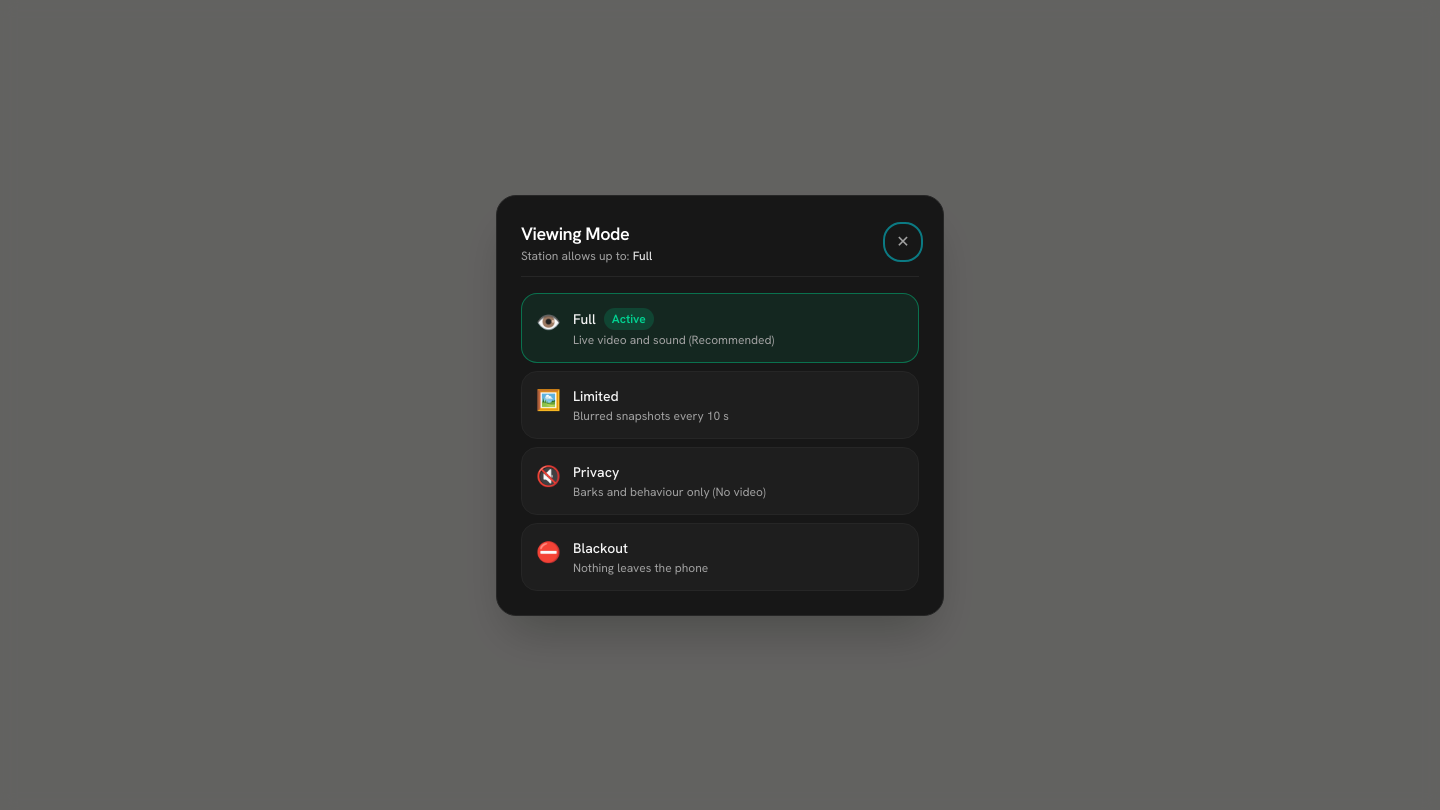
ModeSheet request result › shows the station's answer next to the pending notice
What coordinates should you click on to do the following:
click the button "🔇 Privacy Barks and behaviour only (No video)"
I would click on:
 (720, 480)
Its box is [521,446,919,514].
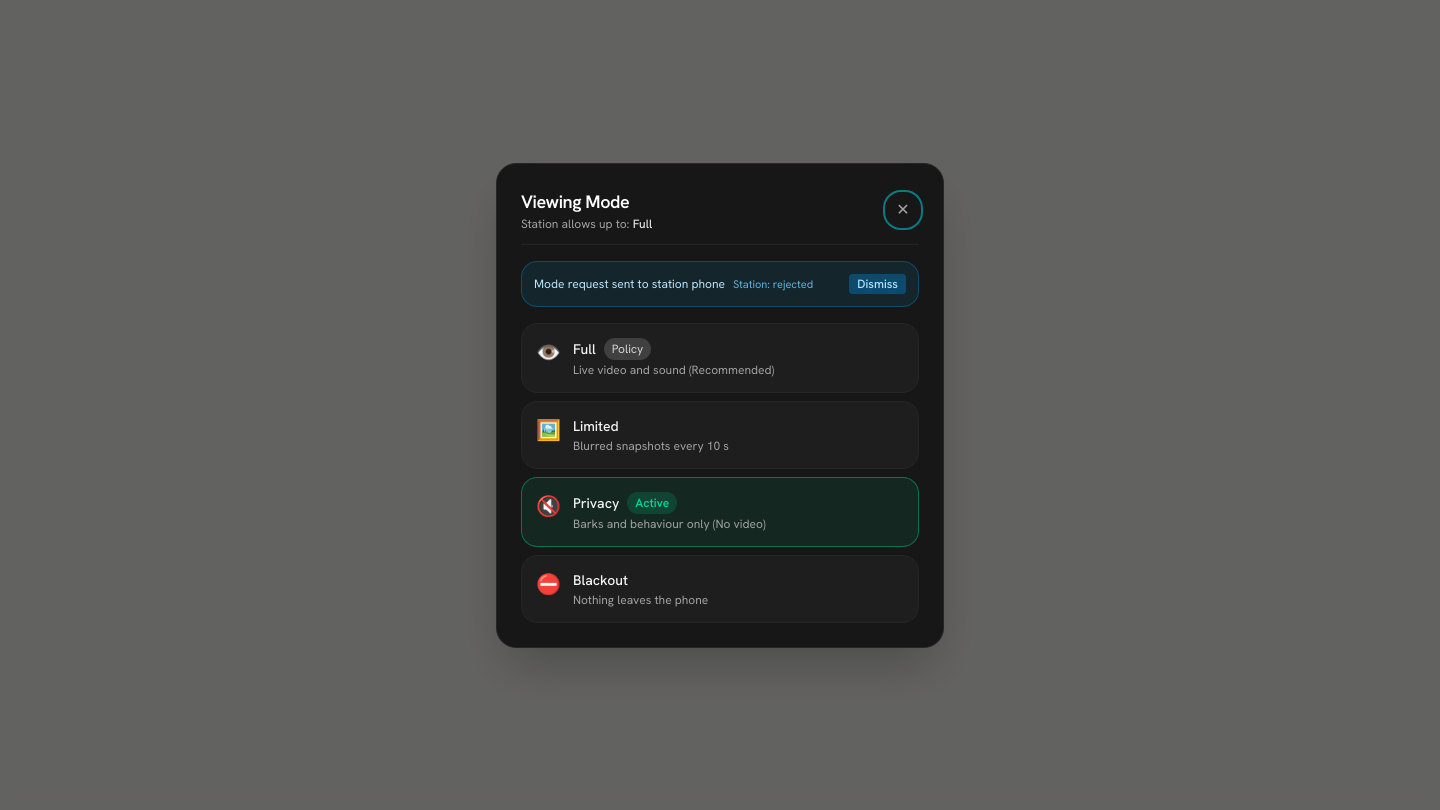
Expected: the text "Mode request sent to station phone" is shown, [534,276,725,292]
Expected: the text "Station: rejected" is shown, [733,276,813,290]
